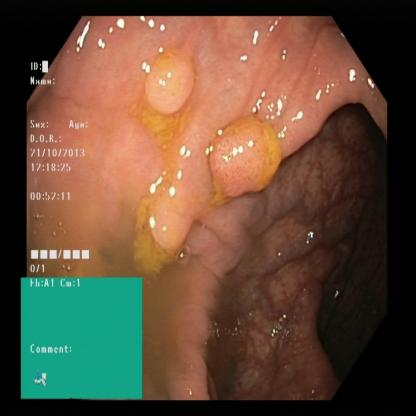Polyps: (136, 43, 223, 122), (141, 154, 206, 256), (203, 129, 284, 202)
